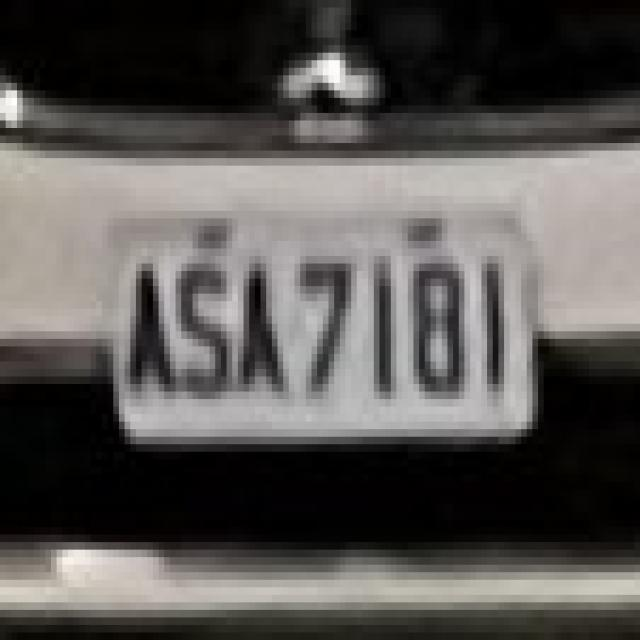license-plate: (112, 203, 549, 481)
